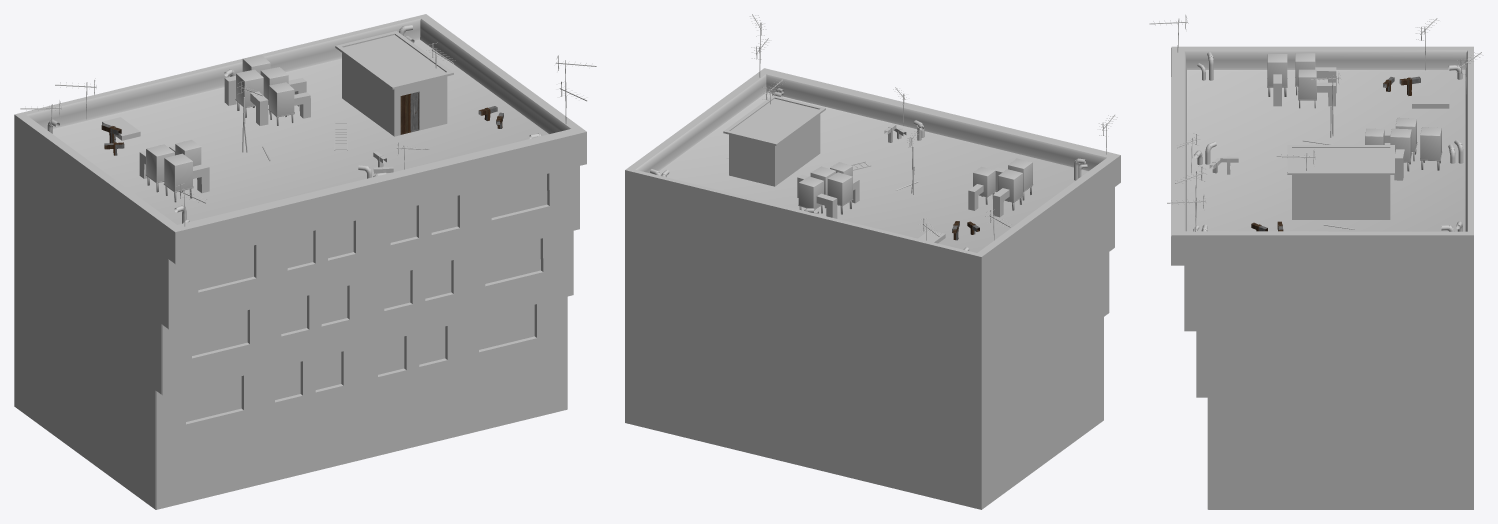
The model's file is Building 02.fbx.
3 renders of one model, left to right at view 1: azimuth 30°, elevation 25°; view 2: azimuth 150°, elevation 25°; view 3: azimuth 270°, elevation 25°, orthographic. The views are drawn at different scales.
Parts seen in each view (by area): view 1: Rectangle01, ChamferBox27, Box19, ChamferBox35, ChamferBox37, ChamferBox31; view 2: Rectangle01, ChamferBox37, ChamferBox41, ChamferBox31; view 3: Rectangle01, ChamferBox41, ChamferBox27, ChamferBox33, ChamferBox39, Box223, ChamferBox31.
Boxes of the visible parts, <box> form: Rectangle01: <box>14,14,586,509</box>; ChamferBox27: <box>164,153,192,191</box>; Box19: <box>400,91,419,134</box>; ChamferBox35: <box>269,82,294,116</box>; ChamferBox37: <box>236,69,263,106</box>; ChamferBox31: <box>146,144,174,182</box>; Rectangle01: <box>625,68,1120,509</box>; ChamferBox37: <box>827,172,852,205</box>; ChamferBox41: <box>798,176,823,208</box>; ChamferBox31: <box>998,169,1022,201</box>; Rectangle01: <box>1171,46,1473,509</box>; ChamferBox41: <box>1420,127,1441,160</box>; ChamferBox27: <box>1267,54,1287,86</box>; ChamferBox33: <box>1298,69,1316,99</box>; ChamferBox39: <box>1390,128,1411,161</box>; Box223: <box>1412,95,1449,108</box>; ChamferBox31: <box>1295,53,1315,85</box>.
Bounding box in the file's own units: 482 × 378 × 339.
